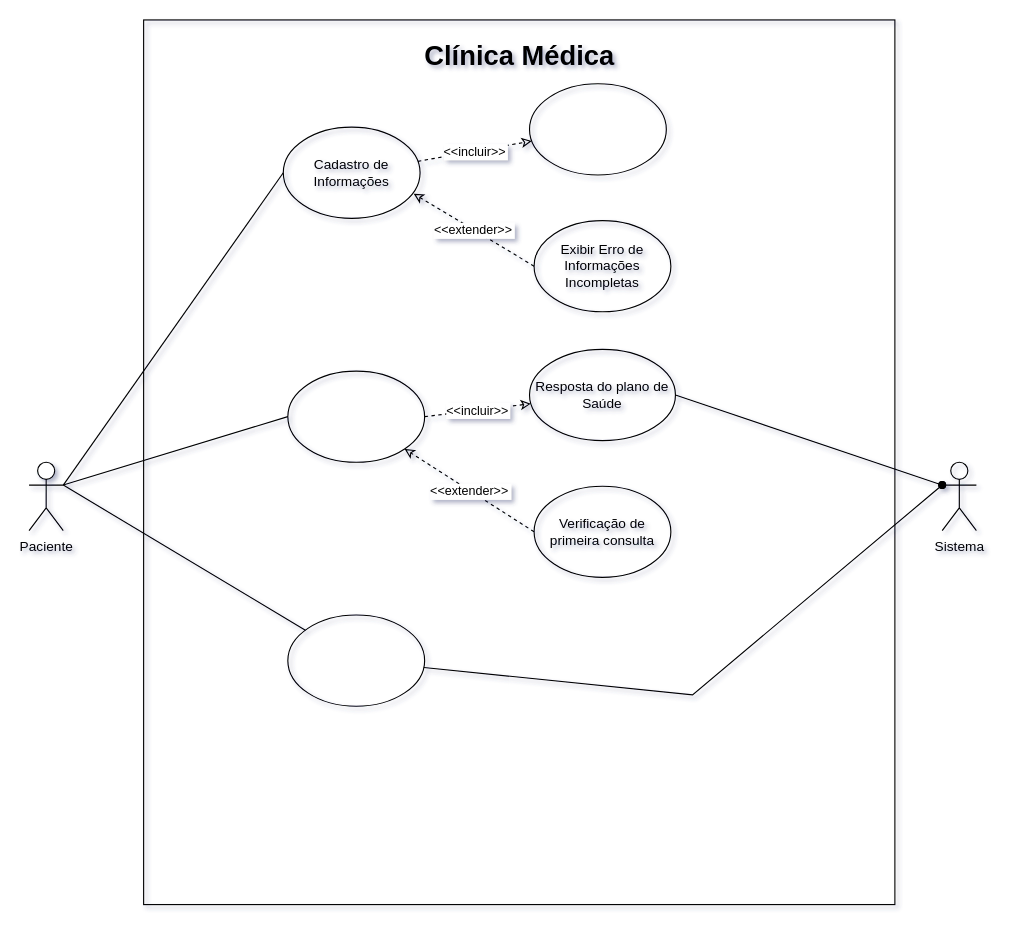
This 1010x931 diagram has some shape labels left out. The centre of each missing label's shape, as x and y in pixels:
"Agendamento de Consulta" goes at (356,416).
"Solicitação de Resultados de exames" goes at (356,660).
"Validar Informações" goes at (597,129).
